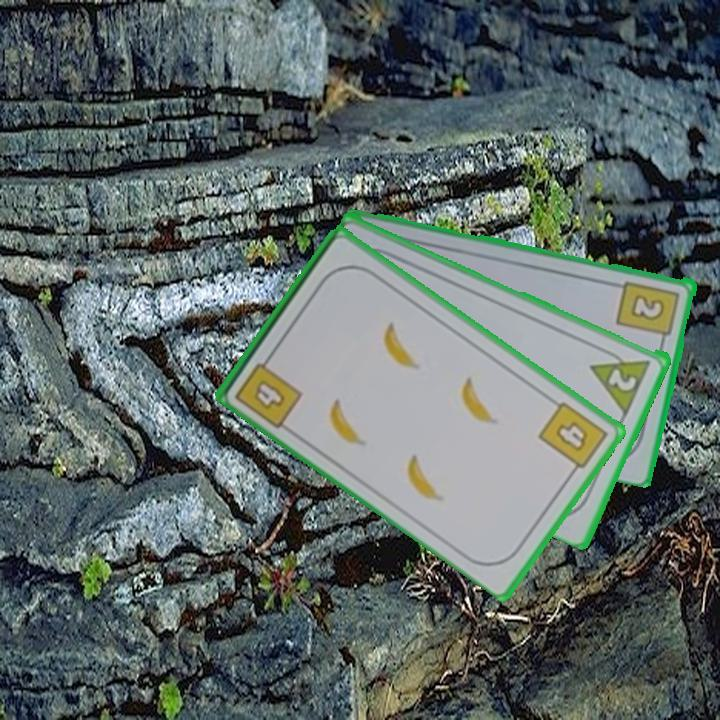2b: (614, 277, 683, 347)
2p: (605, 364, 640, 395)
4b: (534, 397, 611, 479), (231, 349, 306, 431)
